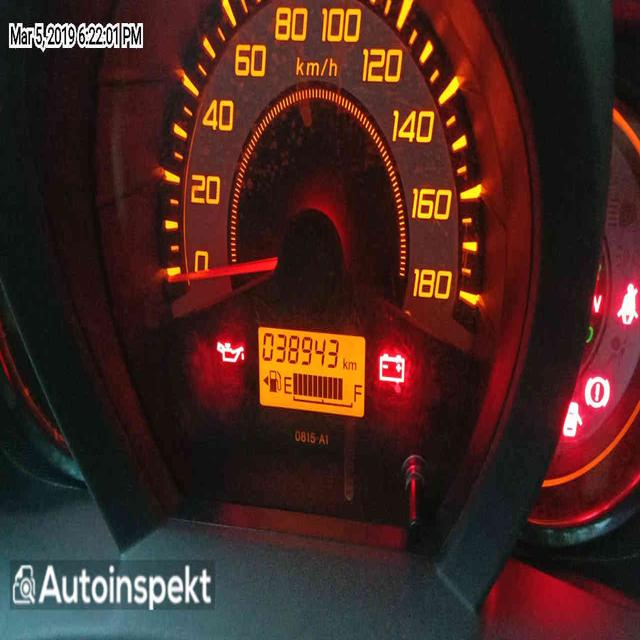odometer: (259, 328, 340, 369)
